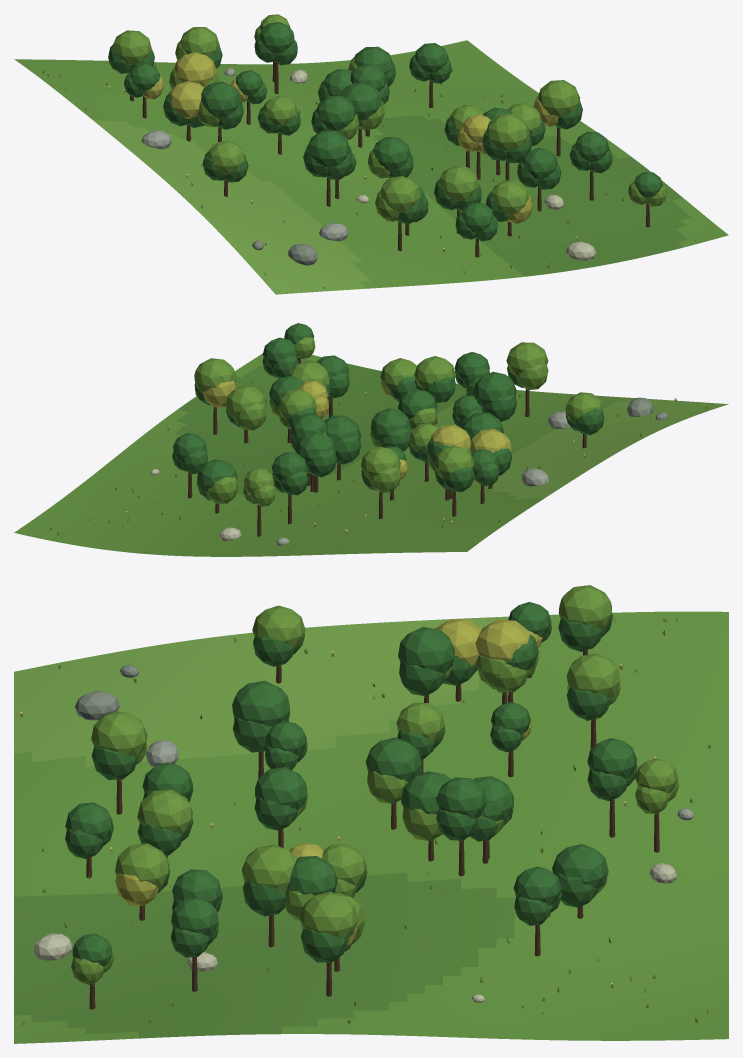
The model's file is Chunk_X-1_Y0_Z1.fbx.
The picture shows the model from 3 angles, top to bottom: view 1: azimuth 30°, elevation 25°; view 2: azimuth 150°, elevation 25°; view 3: azimuth 270°, elevation 25°; orthographic projection. The views are drawn at different scales.
Parts seen in each view (by area): view 1: Terrain.018, Canopies.018, Rocks.018, Trunks.018, GroundCover.018; view 2: Terrain.018, Canopies.018, Trunks.018, Rocks.018, GroundCover.018; view 3: Terrain.018, Canopies.018, Rocks.018, Trunks.018, GroundCover.018.
Boxes of the visible parts, x1,y1,x2,y2 form: Terrain.018: (14, 40, 728, 294); Canopies.018: (108, 14, 666, 241); Rocks.018: (141, 68, 596, 265); Trunks.018: (130, 61, 649, 257); GroundCover.018: (42, 52, 696, 288); Terrain.018: (14, 353, 728, 556); Canopies.018: (172, 323, 604, 506); Trunks.018: (188, 357, 586, 536); Rocks.018: (150, 397, 668, 545); GroundCover.018: (49, 381, 707, 548); Terrain.018: (14, 611, 728, 1043); Canopies.018: (65, 585, 679, 984); Rocks.018: (34, 665, 693, 1002); Trunks.018: (86, 650, 659, 1009); GroundCover.018: (20, 617, 710, 1024).
Size of the model in its own units: 100 by 31.42 by 100.
